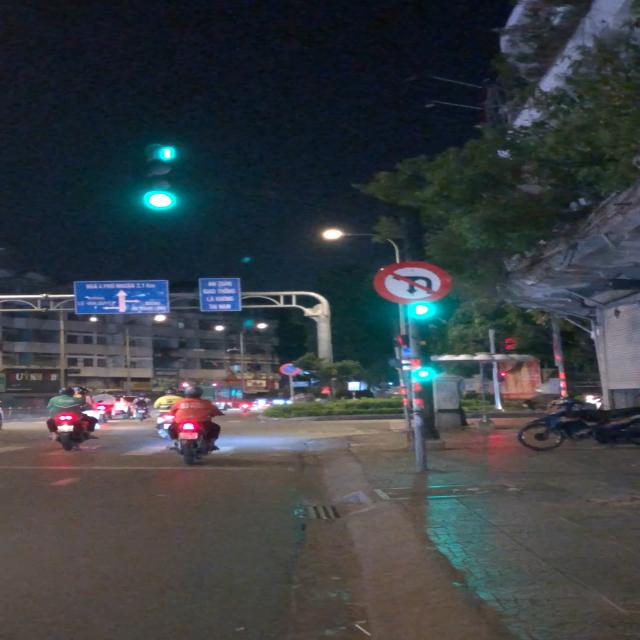Bien bao cam re trai va quay dau: (372, 258, 451, 304)
